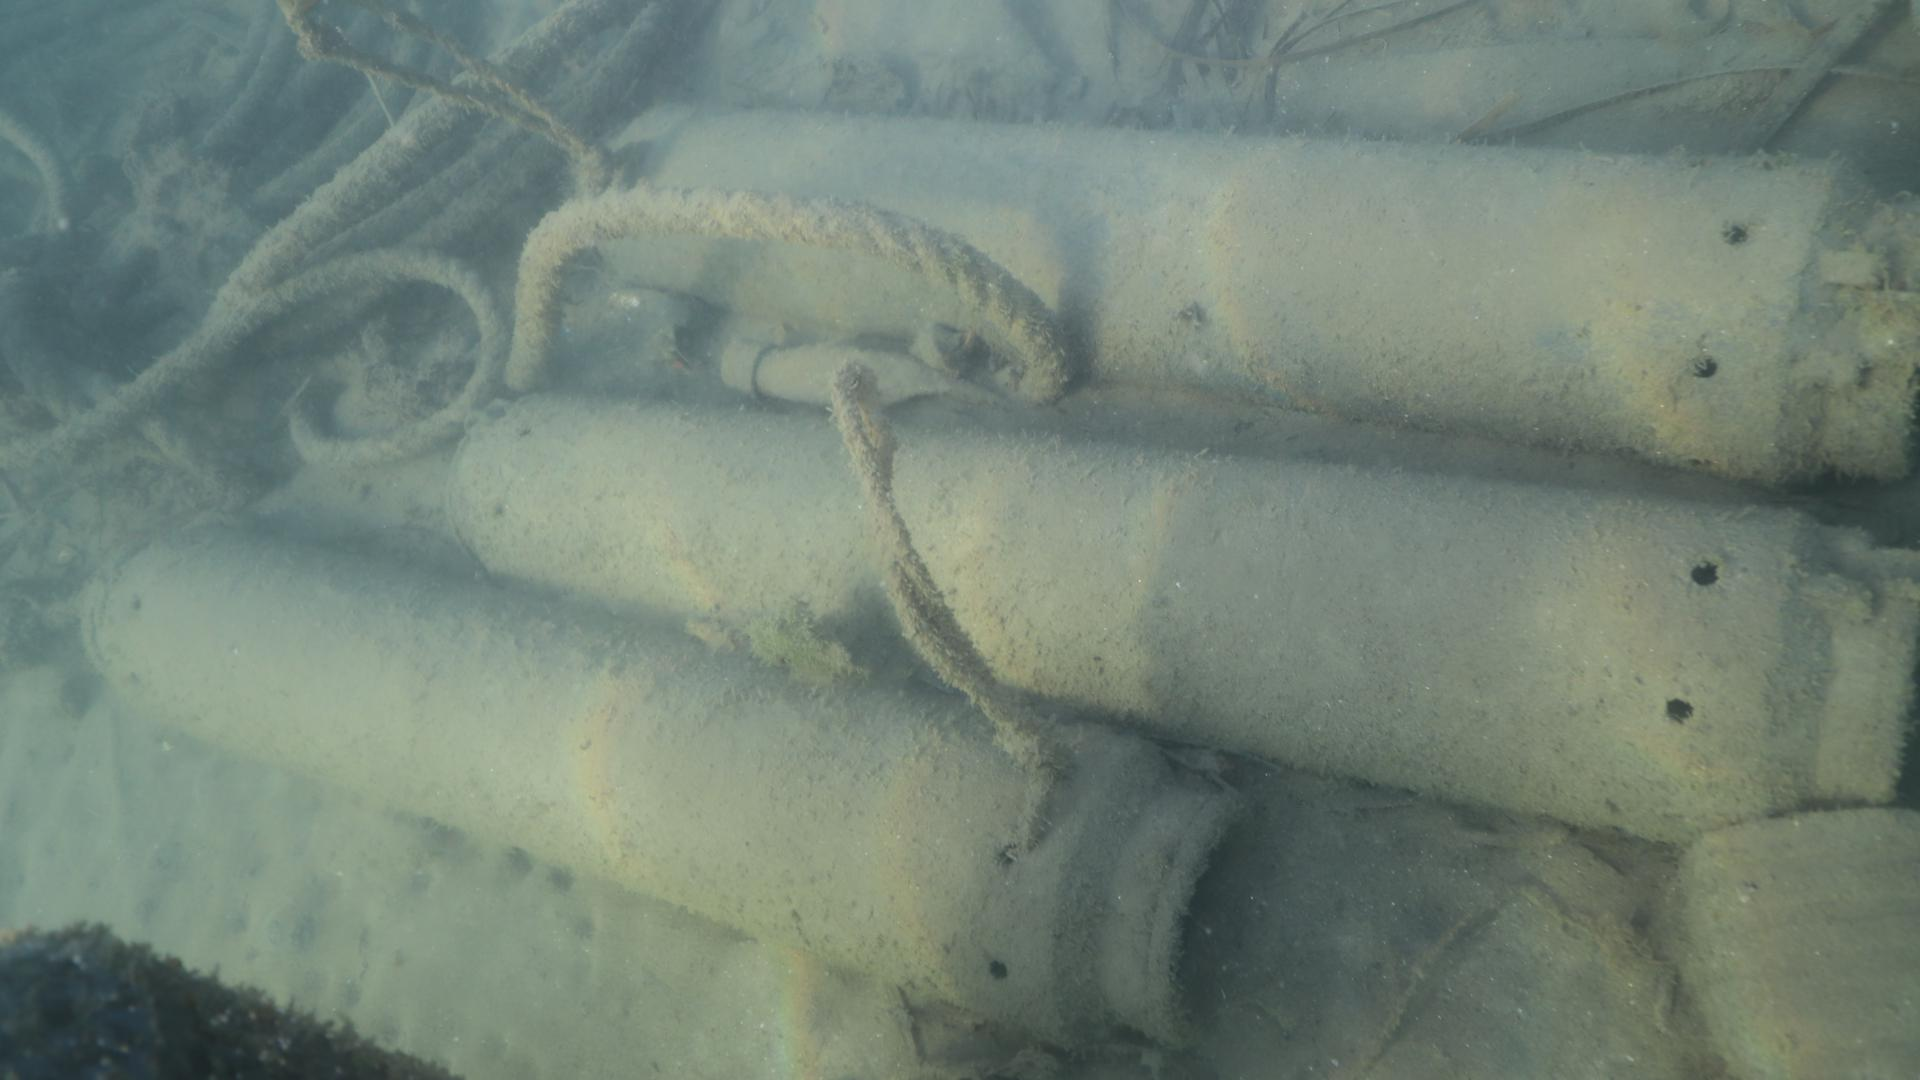bundle of ropes: (0, 0, 1073, 506), (828, 357, 1079, 852)
eel fish trap: (448, 388, 1920, 848), (76, 520, 1262, 1051), (579, 99, 1920, 487)
